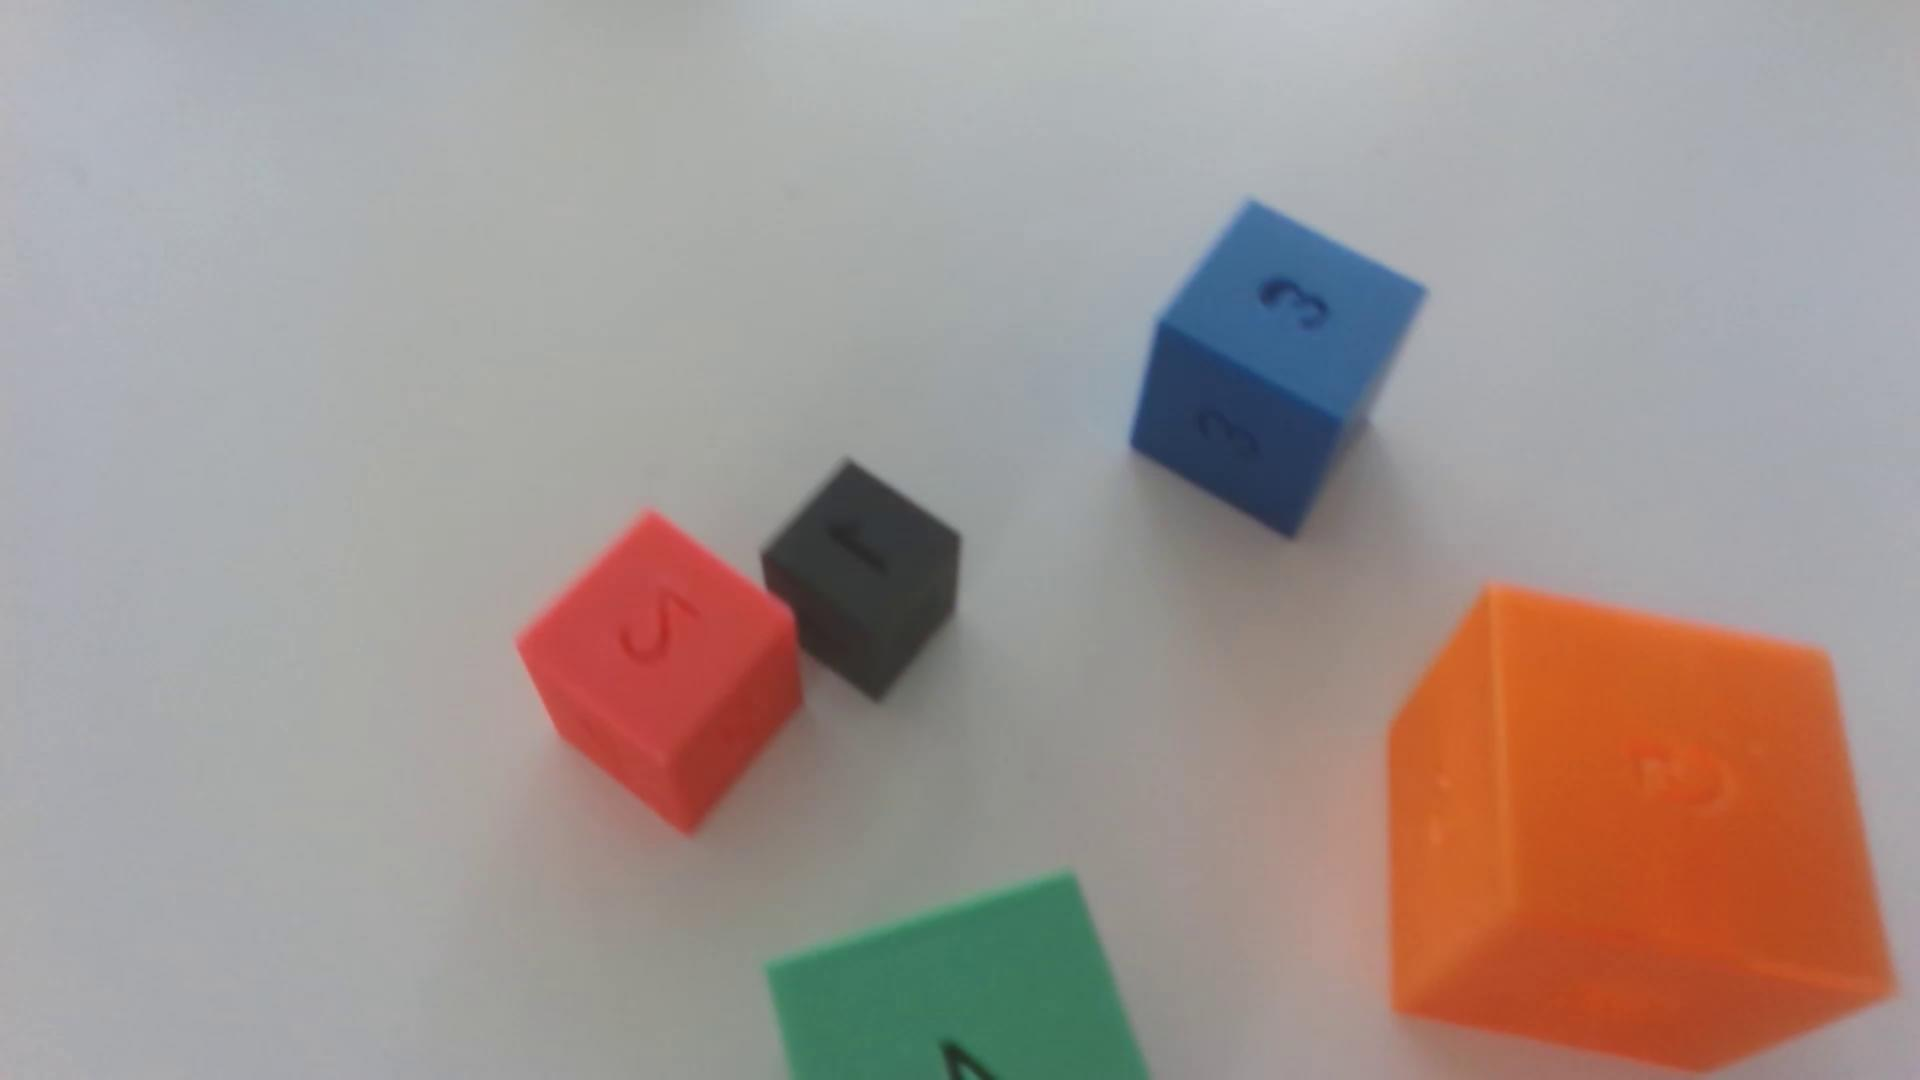black: (761, 462, 963, 702)
blue: (1131, 203, 1425, 537)
green: (769, 876, 1147, 1080)
orange: (1386, 587, 1895, 1073)
red: (518, 513, 802, 833)
